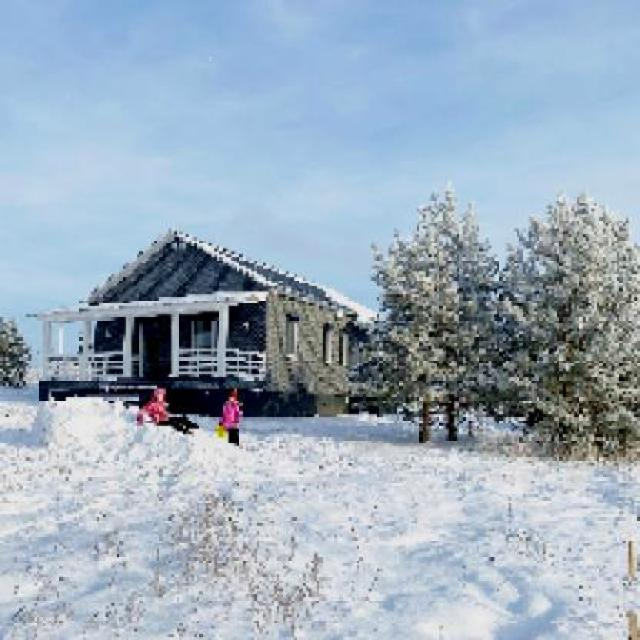child: (136, 388, 202, 435), (219, 387, 247, 444)
